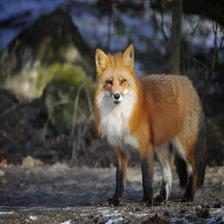fox: (87, 44, 214, 212)
